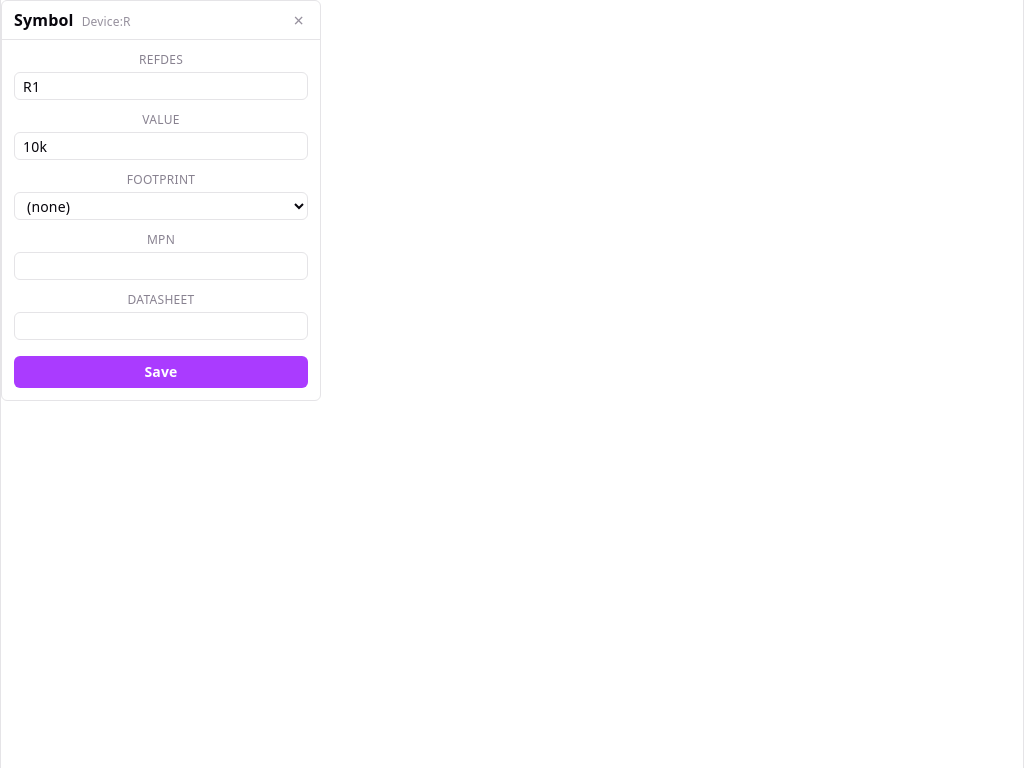
PropertyPanel › rejects a footprint that is not in fp-lib-table candidates
Click the button with test id "property-save" at (161, 372), box [14, 356, 308, 388]
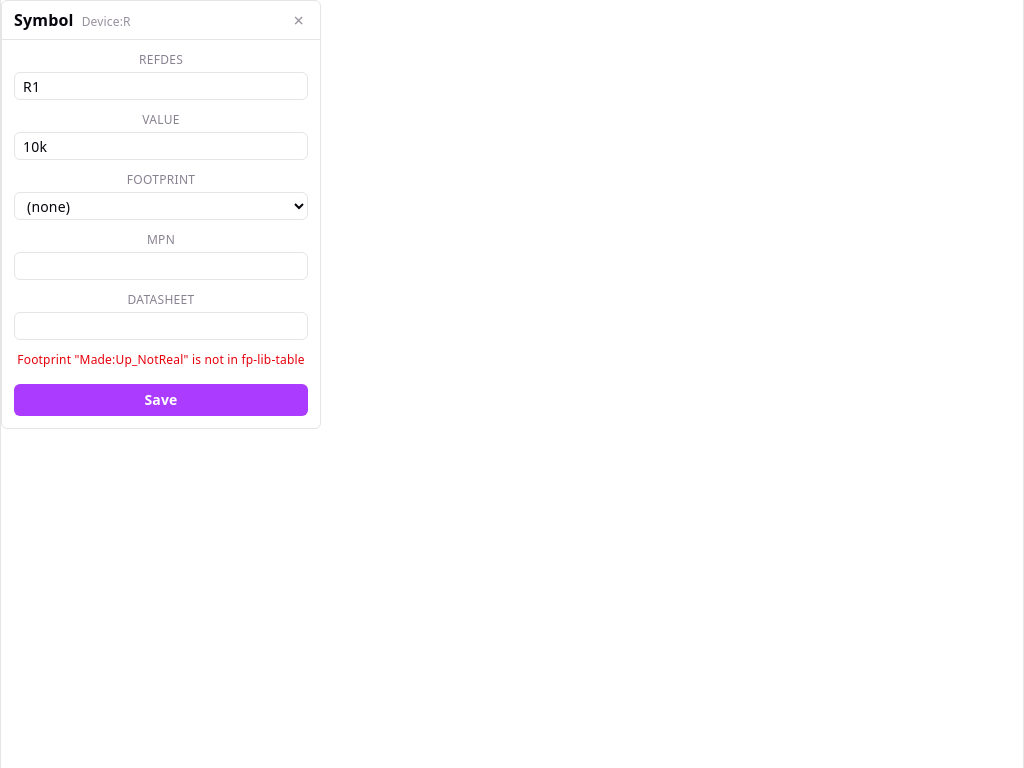
Expected: the text with test id "property-error" shows "fp-lib-table", [17, 351, 305, 368]
